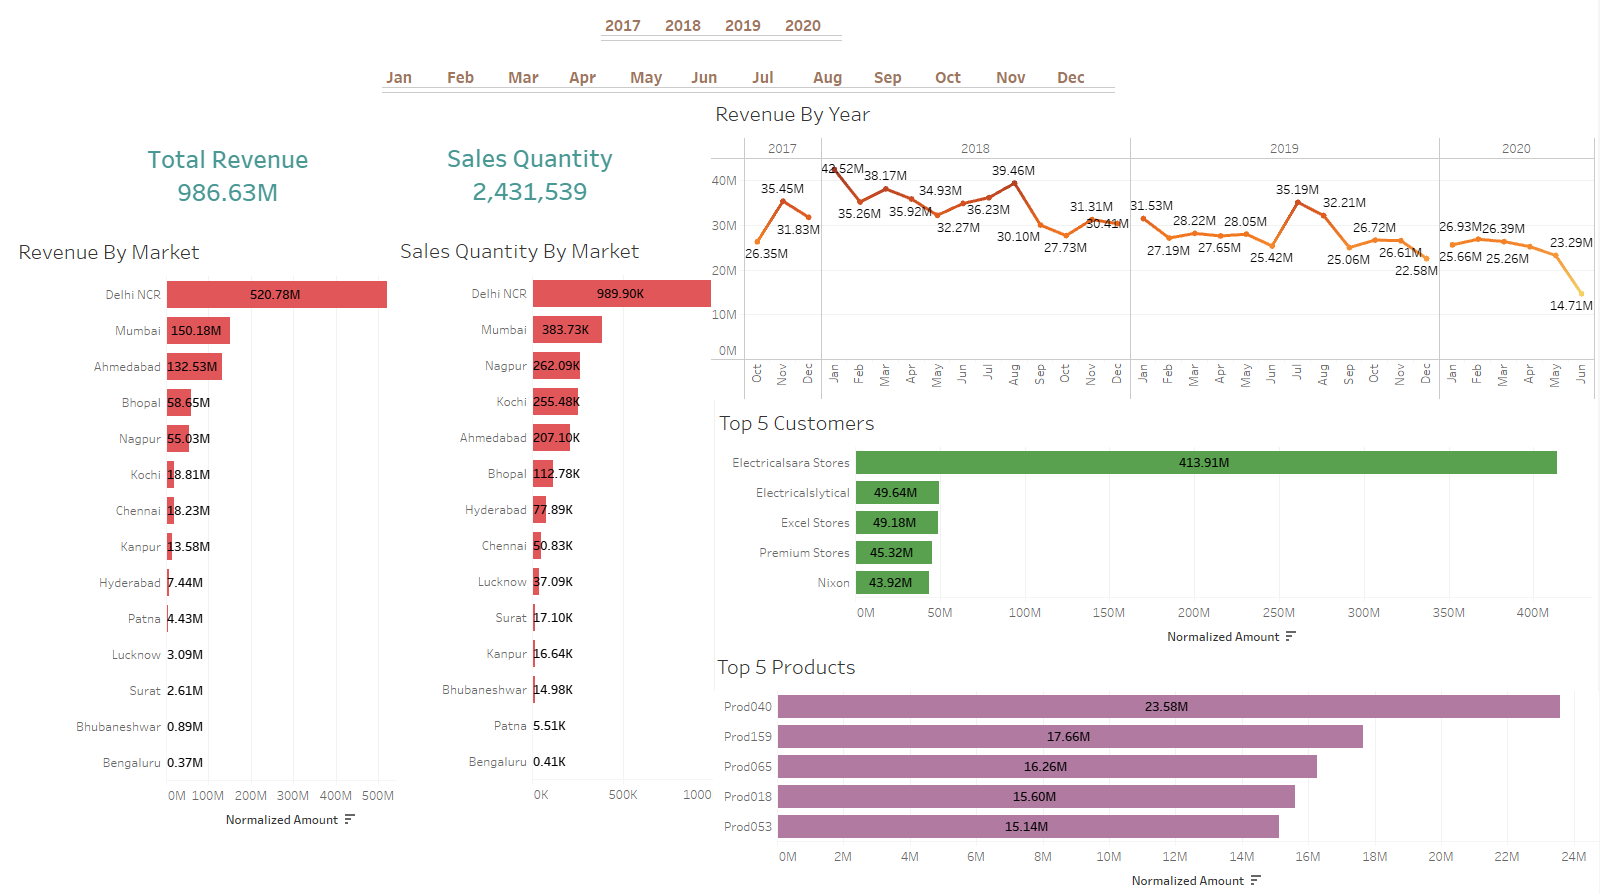

What the dashboard file says about the page in this screenshot:
{"tool":"tableau","page":{"name":"Dashboard 1","canvas":[1600,900],"ordinal":0},"visuals":[{"type":"worksheet","title":"Year_Filter","mark":"Automatic","cols":["cy_date"],"box":[603,5,263,63]},{"type":"worksheet","title":"Month_Filter","mark":"Automatic","cols":["cy_date"],"box":[384,57,785.1,66]},{"type":"worksheet","title":"Revenue By Year","mark":"Automatic","rows":["Calculation_180144010825719809"],"cols":["cy_date","cy_date"],"box":[713,100,884,305]},{"type":"worksheet","title":"Revenue","mark":"Automatic","box":[139.7,104,273.1,114]},{"type":"worksheet","title":"Sales Quantity","mark":"Automatic","box":[442,131,250,152]},{"type":"worksheet","title":"Sales Quantity By Market","mark":"Automatic","rows":["markets_name"],"cols":["sales_qty"],"box":[398,237,325,665]},{"type":"worksheet","title":"Revenue By Market","mark":"Automatic","rows":["markets_name"],"cols":["Calculation_180144010825719809"],"box":[16,238,384,666]},{"type":"worksheet","title":"Top 5 Customers","mark":"Automatic","rows":["custmer_name"],"cols":["Calculation_180144010825719809"],"box":[717,409,877,253]},{"type":"worksheet","title":"Top 5 Products","mark":"Automatic","rows":["product_code (products)"],"cols":["Calculation_180144010825719809"],"box":[715,653,886,249]}]}

Visuals, with their boxes in screenshot pixels (x1, y1, x2, y2), scaled from the page's 1600x900 canvas onto the 1600x894 screenshot:
"Year_Filter" worksheet: crop(603, 5, 866, 68)
"Month_Filter" worksheet: crop(384, 57, 1169, 122)
"Revenue By Year" worksheet: crop(713, 99, 1597, 402)
"Revenue" worksheet: crop(140, 103, 413, 217)
"Sales Quantity" worksheet: crop(442, 130, 692, 281)
"Sales Quantity By Market" worksheet: crop(398, 235, 723, 893)
"Revenue By Market" worksheet: crop(16, 236, 400, 893)
"Top 5 Customers" worksheet: crop(717, 406, 1594, 658)
"Top 5 Products" worksheet: crop(715, 649, 1599, 893)
